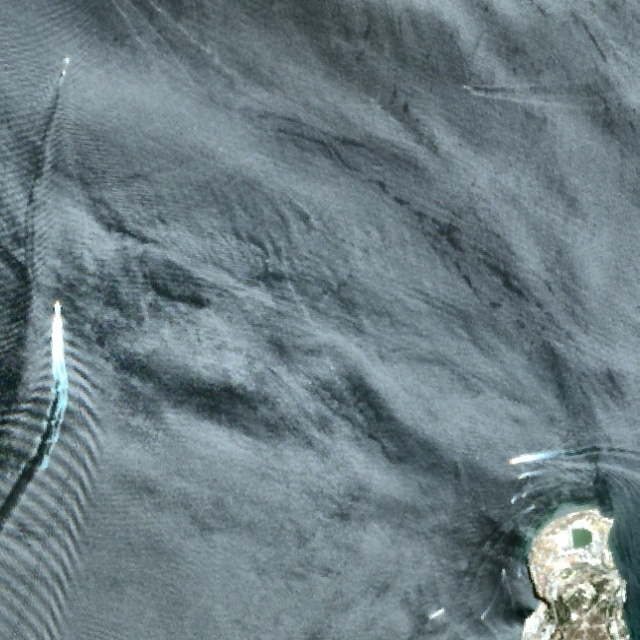wake: (14, 294, 98, 486)
